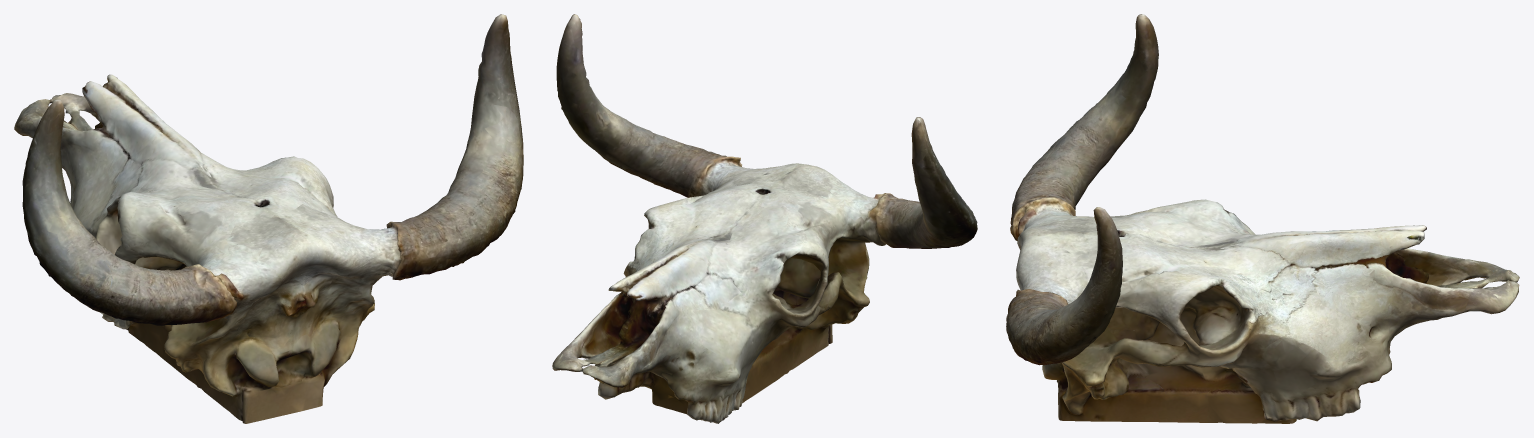
Rendered from head.glb.
The picture shows the model from 3 angles, left to right: view 1: azimuth 30°, elevation 25°; view 2: azimuth 150°, elevation 25°; view 3: azimuth 270°, elevation 25°; orthographic projection. The views are drawn at different scales.
Visible parts, largest first — view 1: Cow Skull; view 2: Cow Skull; view 3: Cow Skull.
Boxes of the visible parts, left/top/right/bottom form: Cow Skull: left=14, top=14, right=523, bottom=423; Cow Skull: left=552, top=14, right=977, bottom=423; Cow Skull: left=1006, top=14, right=1519, bottom=423.
Size of the model in its own units: 0.5028 by 0.328 by 0.4999.
1 material, 1 textured.
